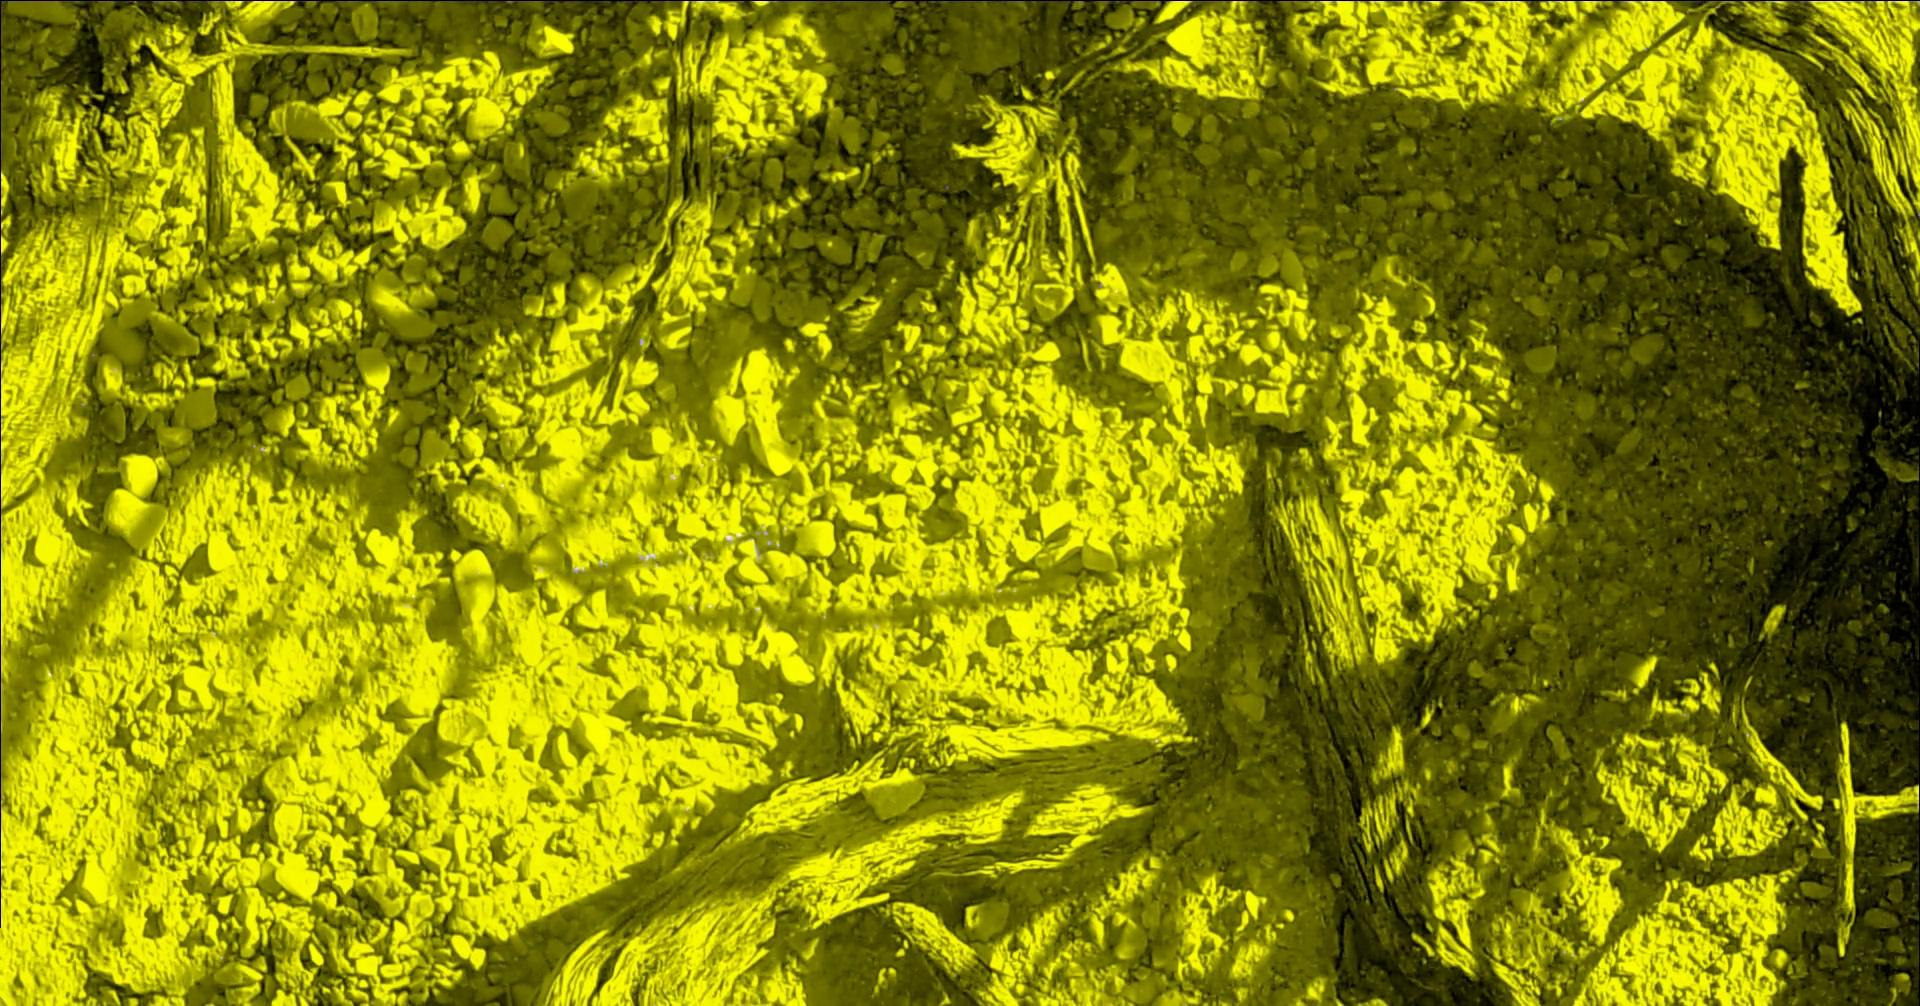ant: (924, 0, 1084, 3), (391, 0, 497, 1), (810, 0, 891, 1), (1093, 0, 1168, 1), (623, 0, 683, 1)
